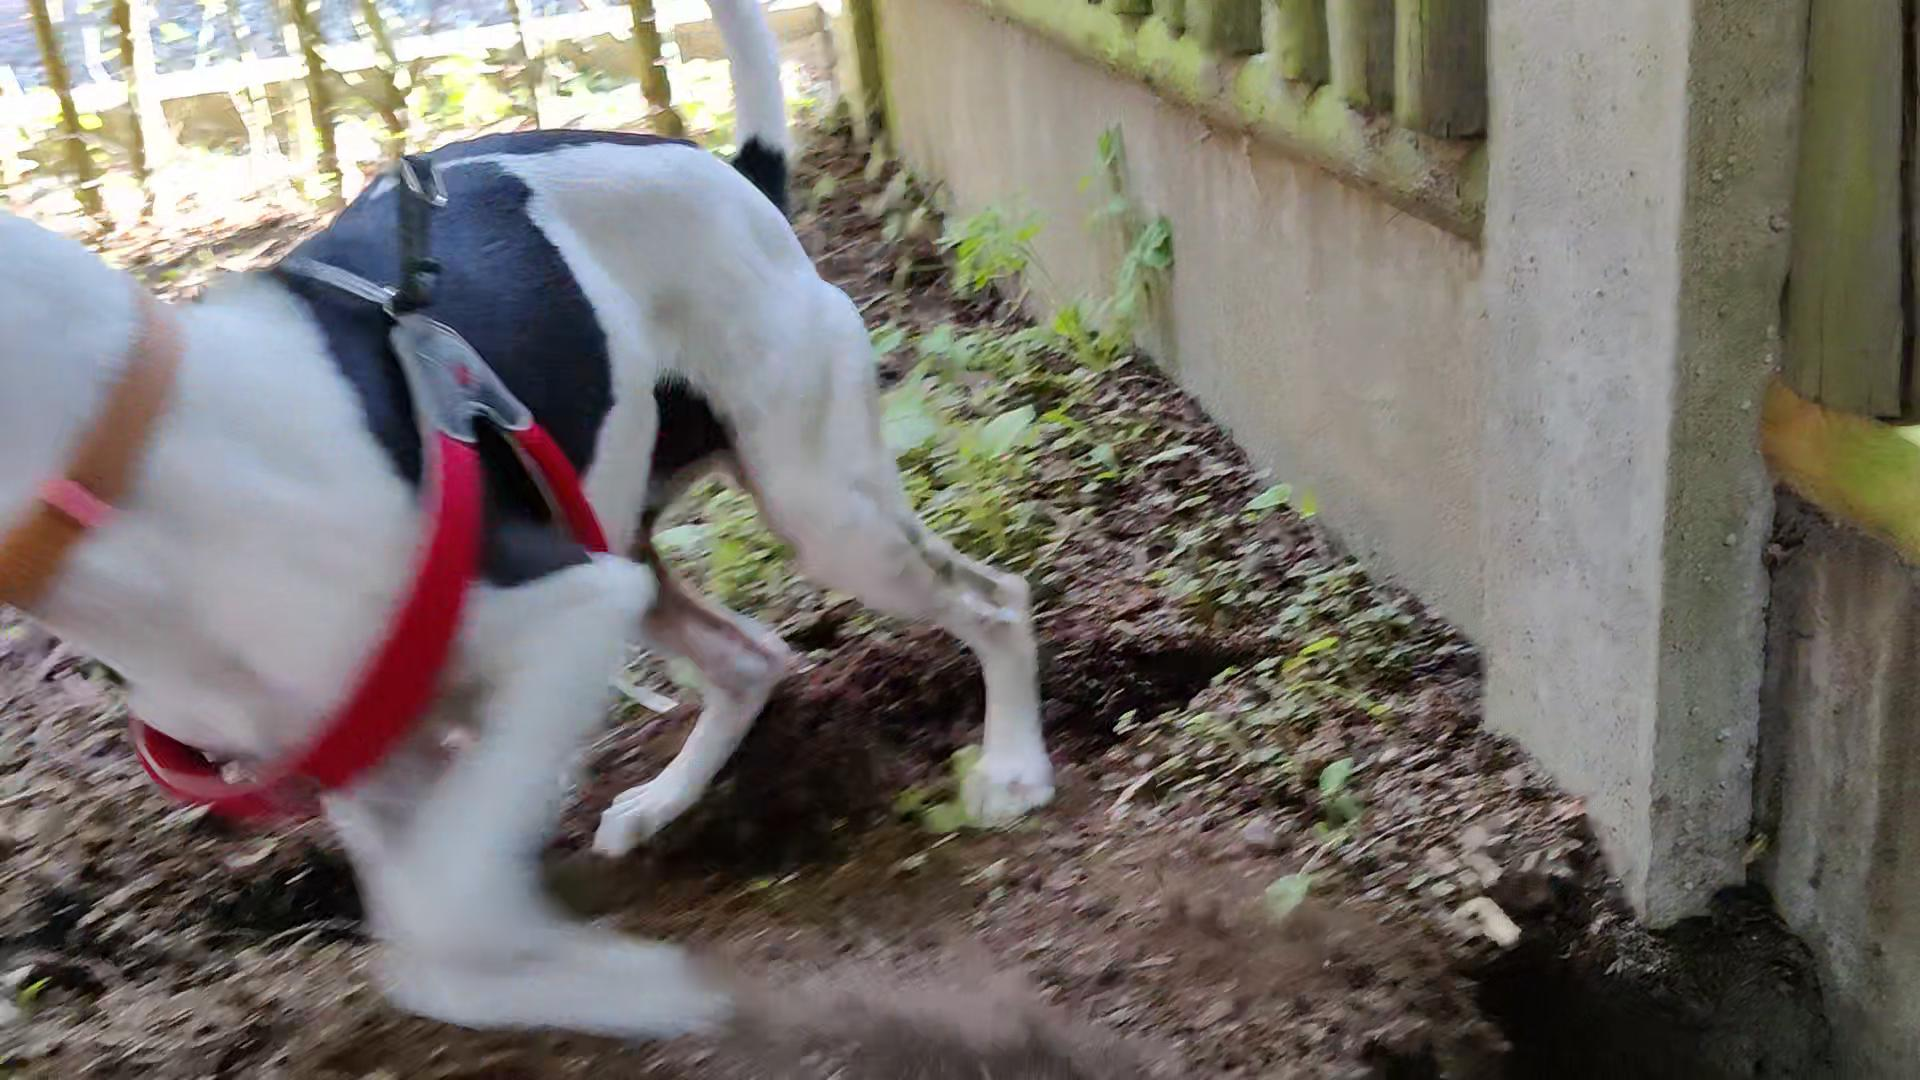Dog: (0, 0, 1069, 1055)
